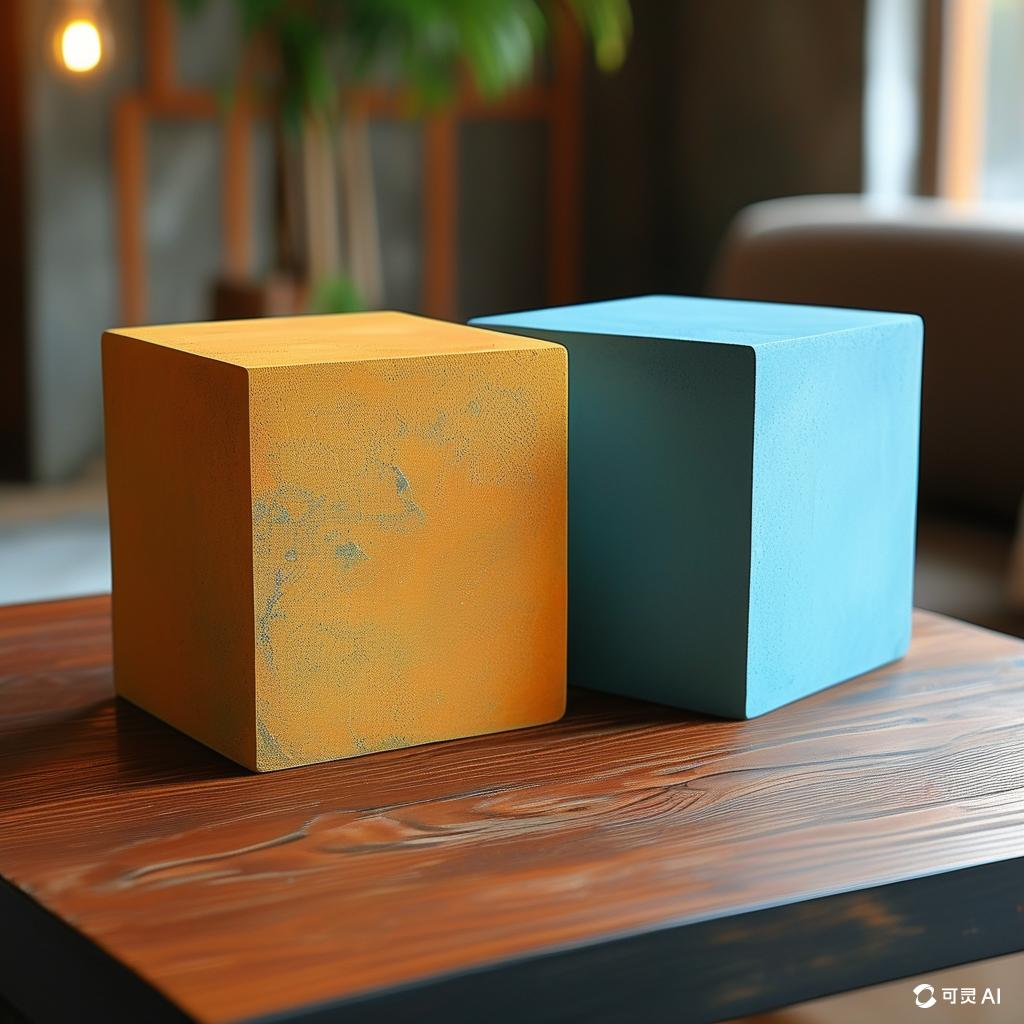cube: (100, 308, 569, 773), (466, 292, 924, 721)
